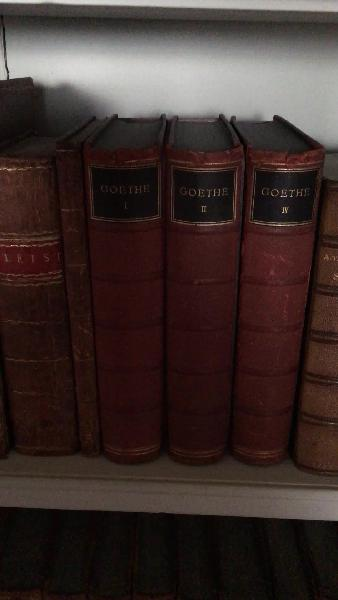Aa6-10: (49, 142, 105, 462)
Aa6-11_13: (86, 151, 319, 475)
Aa6-9: (3, 145, 78, 464)
